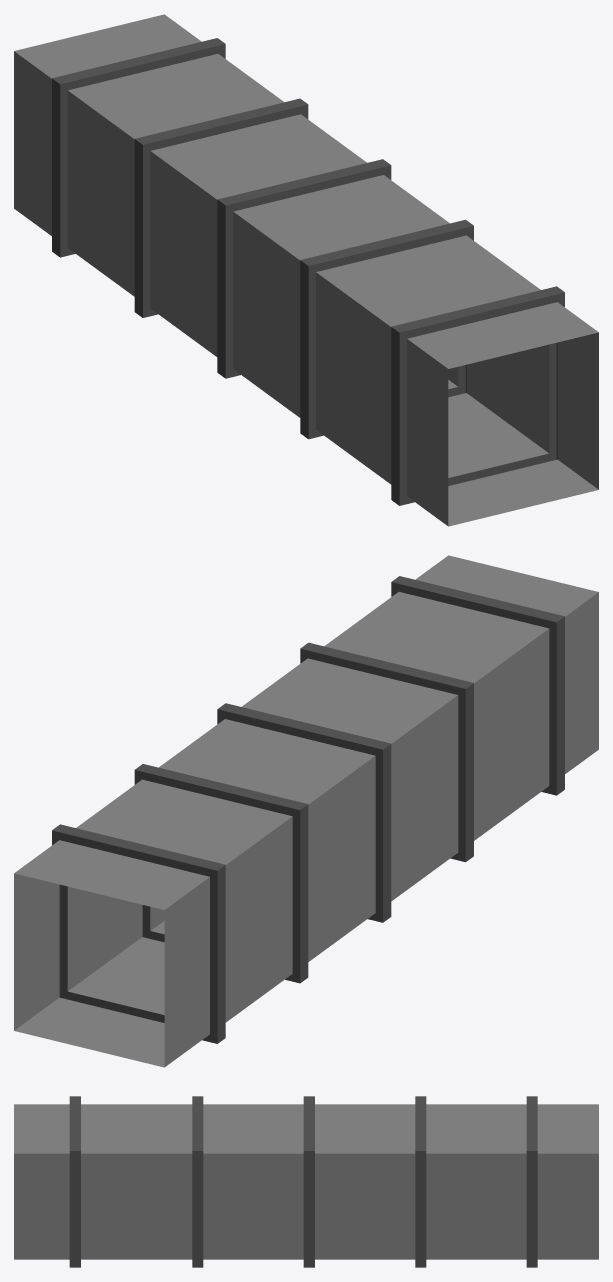
File: Vent_01.fbx
3 views of the same model, one above another, from view 1: azimuth 30°, elevation 25°; view 2: azimuth 150°, elevation 25°; view 3: azimuth 270°, elevation 25° (orthographic). The views are drawn at different scales.
Visible parts, largest first — view 1: Vent_01; view 2: Vent_01; view 3: Vent_01.
Part boxes in pixels (x1=…): Vent_01: x1=14, y1=14, x2=598, y2=526; Vent_01: x1=14, y1=555, x2=598, y2=1067; Vent_01: x1=14, y1=1096, x2=598, y2=1267.
Bounding box in the file's own units: 44 × 44 × 200.
1 material, 1 textured.
